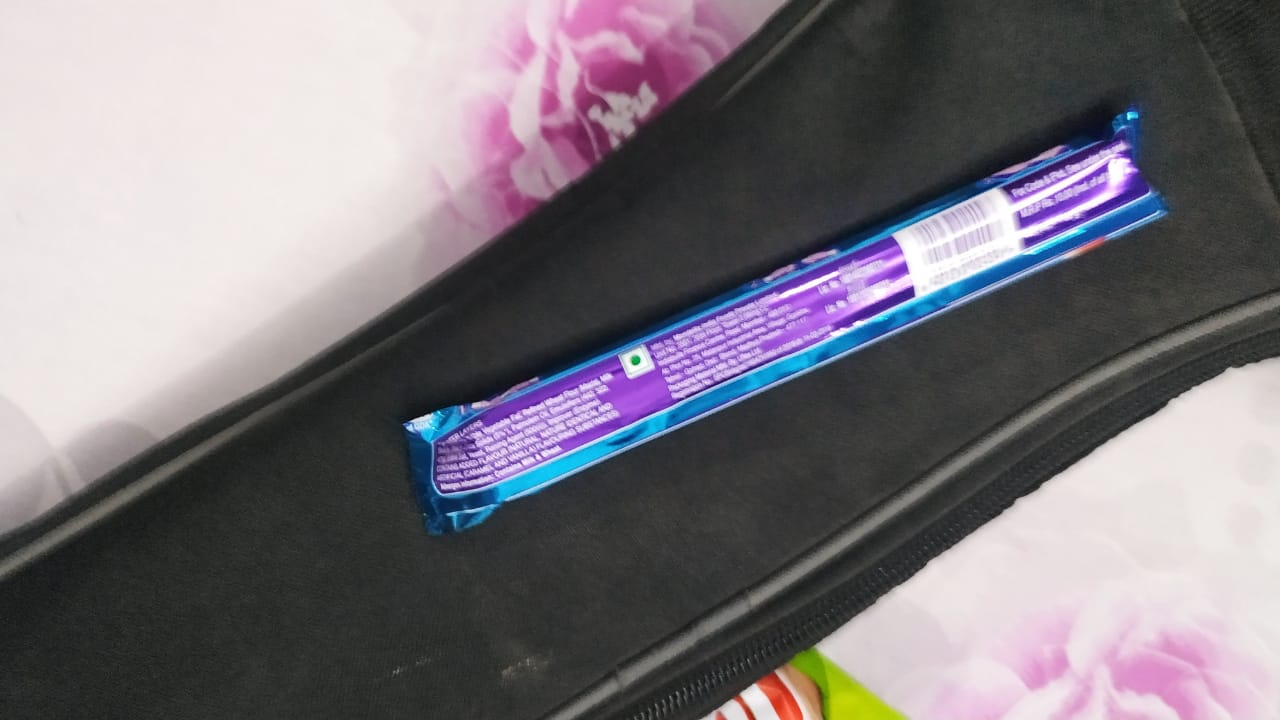perk: (379, 81, 1185, 504)
